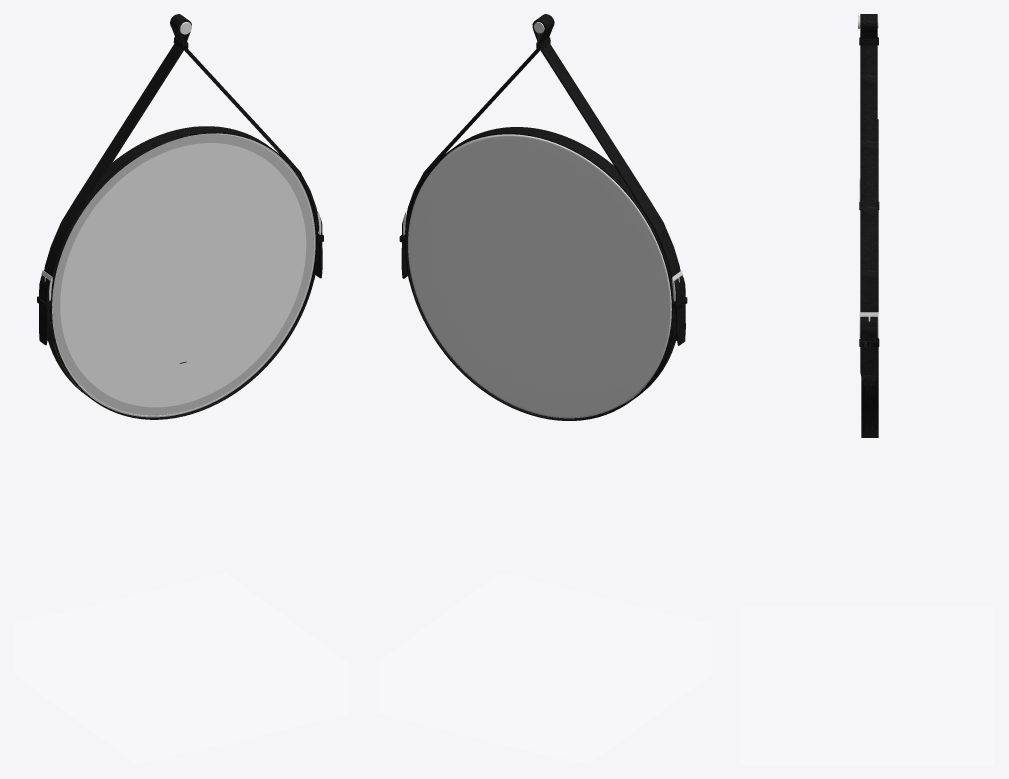
The model's file is kap8.glb.
The picture shows the model from 3 angles, left to right: view 1: azimuth 30°, elevation 25°; view 2: azimuth 150°, elevation 25°; view 3: azimuth 270°, elevation 25°; orthographic projection. The views are drawn at different scales.
Visible parts, largest first — view 1: Shape2174, Куб, Shape2177, Cylinder204205, Cylinder204201, Shape2175; view 2: Shape2175, Куб, Cylinder204205, Cylinder204201; view 3: Куб, Cylinder204205, Cylinder204201.
Part boxes in pixels (bbox=[...]): Shape2174: bbox=[60, 143, 306, 407]; Куб: bbox=[15, 573, 347, 764]; Shape2177: bbox=[52, 133, 315, 417]; Cylinder204205: bbox=[39, 14, 322, 345]; Cylinder204201: bbox=[48, 126, 318, 419]; Shape2175: bbox=[52, 133, 314, 416]; Shape2175: bbox=[408, 134, 671, 418]; Куб: bbox=[377, 573, 711, 764]; Cylinder204205: bbox=[401, 14, 685, 345]; Cylinder204201: bbox=[405, 127, 675, 420]; Куб: bbox=[741, 607, 993, 764]; Cylinder204205: bbox=[860, 14, 877, 385]; Cylinder204201: bbox=[861, 119, 878, 437].
Size of the model in its own units: 0.6257 by 1.45 by 0.48.
Materials: 6 (2 with a texture image).
